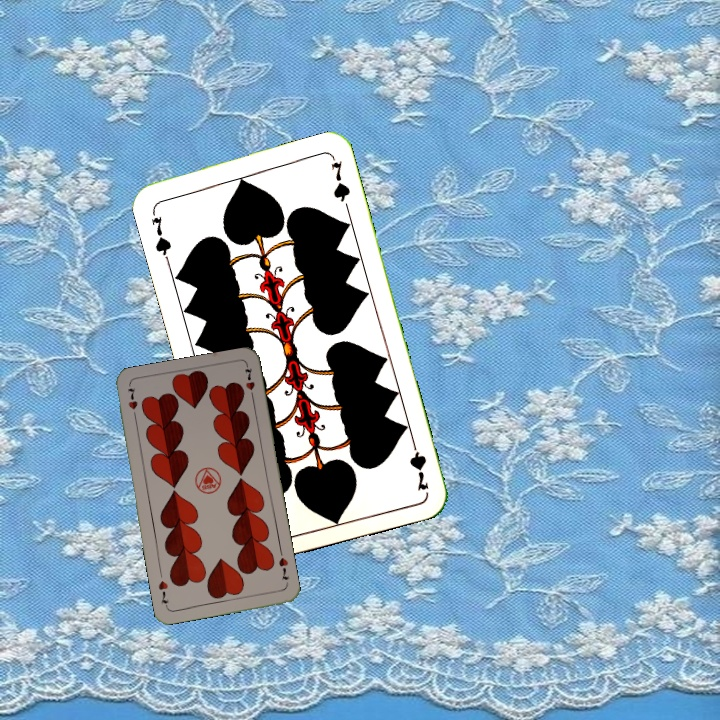G7: (146, 205, 174, 263), (405, 434, 432, 493)
H7: (124, 383, 140, 423), (274, 553, 292, 583)
